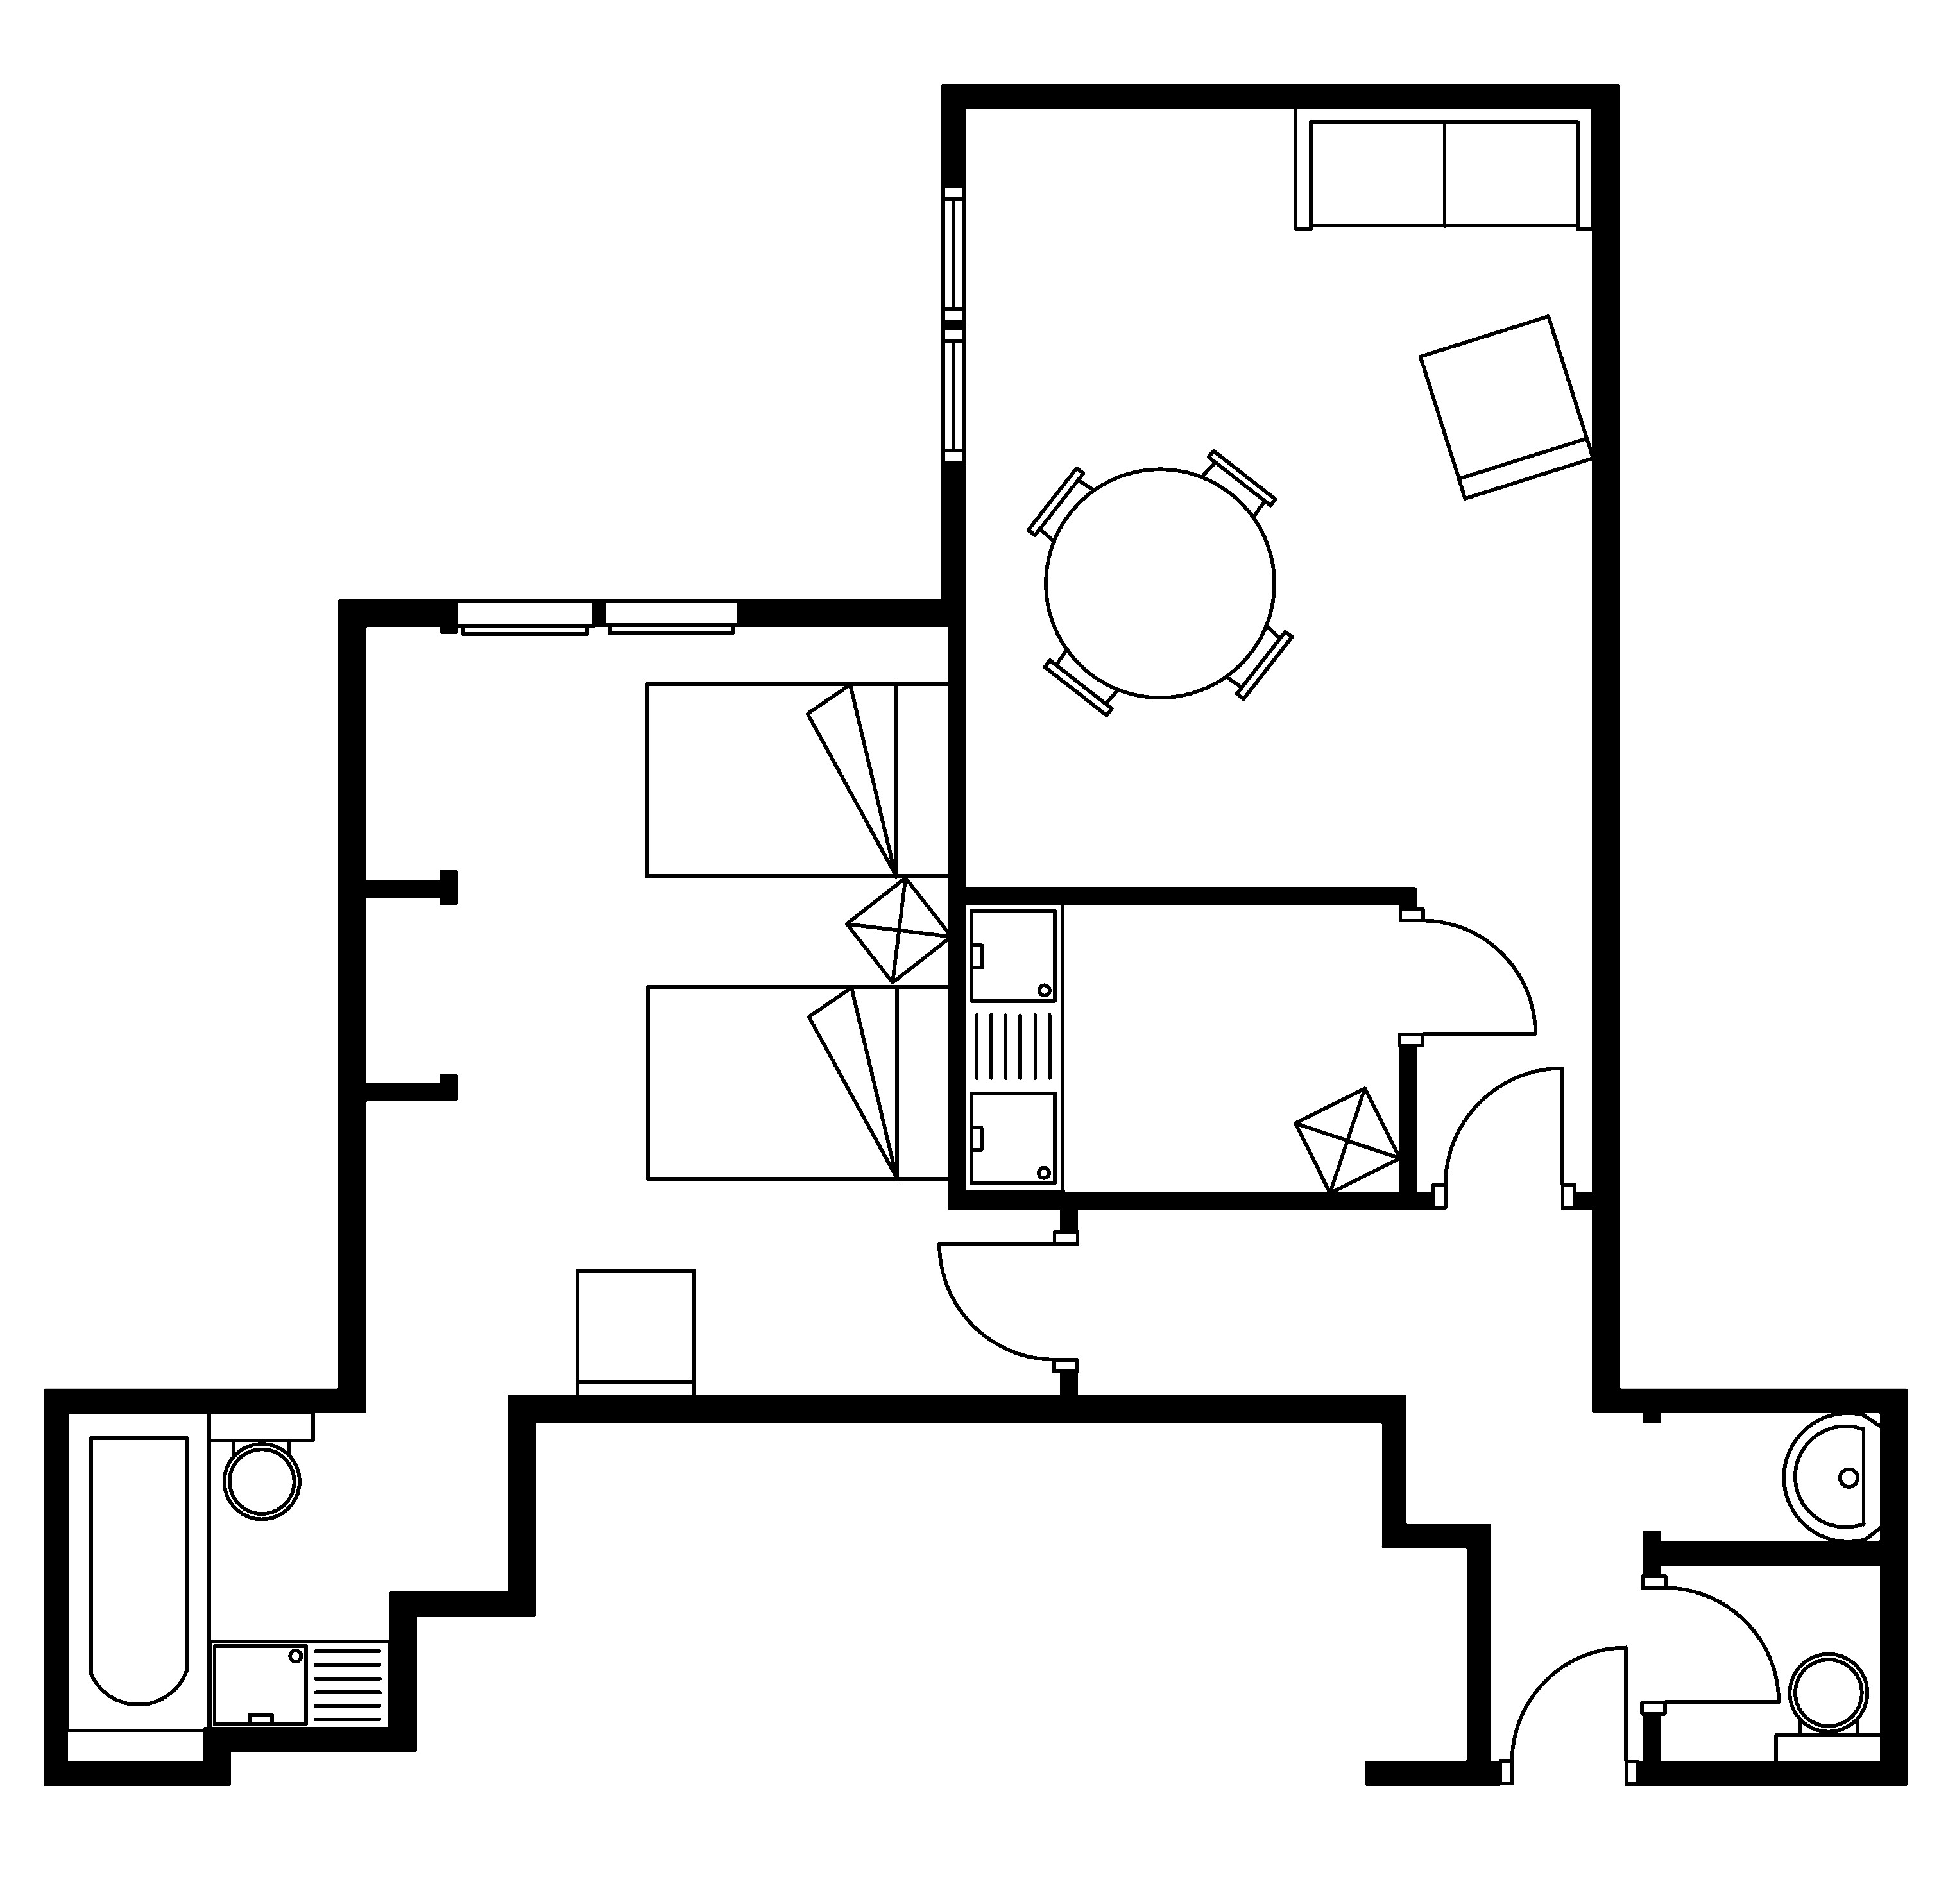bed: (644, 680, 952, 879), (645, 983, 954, 1182)
coffee_table: (1292, 1086, 1402, 1194), (844, 875, 952, 985)
large_sink: (1774, 1653, 1885, 1766), (206, 1411, 316, 1520)
large_sofa: (1292, 105, 1596, 230)
round_table: (1025, 448, 1294, 717)
sink: (208, 1639, 391, 1731)
small_sink: (1782, 1411, 1883, 1543)
small_sofa: (1418, 314, 1596, 500), (574, 1268, 696, 1402)
tub: (65, 1409, 211, 1733)
twin_sink: (961, 900, 1066, 1194)
